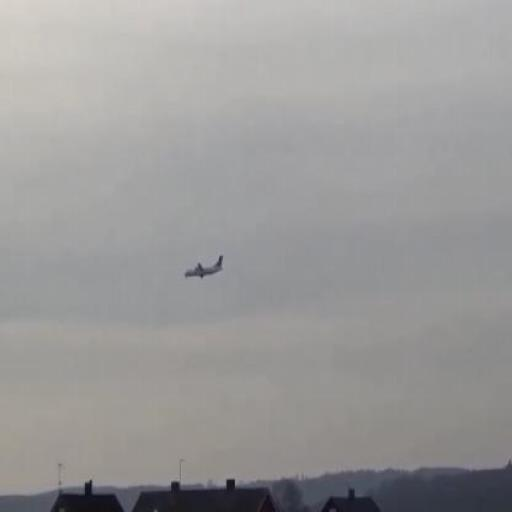aircraft: (184, 254, 223, 279)
